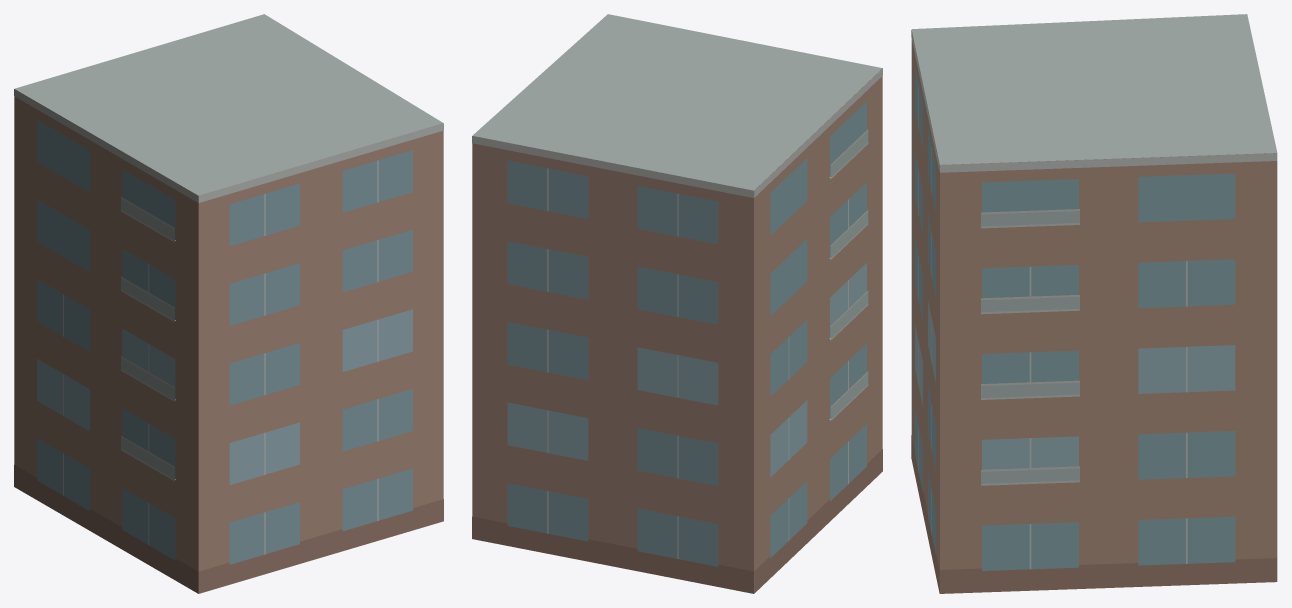
The model's file is survey-upis-32676390.glb.
3 views of the same model, side by side, from view 1: azimuth 30°, elevation 25°; view 2: azimuth 150°, elevation 25°; view 3: azimuth 270°, elevation 25° (orthographic). The views are drawn at different scales.
Visible parts, largest first — view 1: survey-upis-32676390.tmp; view 2: survey-upis-32676390.tmp; view 3: survey-upis-32676390.tmp.
Boxes of the visible parts, x1,y1,x2,y2 form: survey-upis-32676390.tmp: (14, 14, 443, 593); survey-upis-32676390.tmp: (472, 14, 882, 593); survey-upis-32676390.tmp: (911, 14, 1277, 593).
Bounding box in the file's own units: 9.97 × 13.2 × 10.22.
